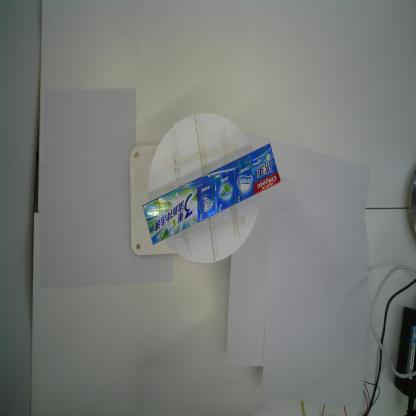Personal Hygiene: (142, 142, 281, 246)
